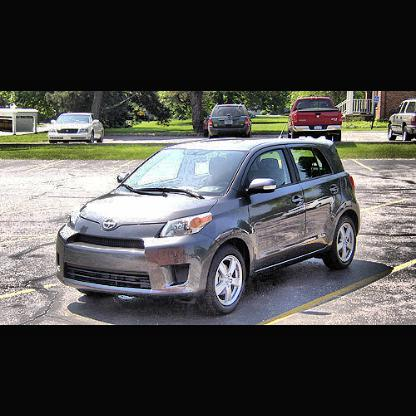Scion xD Hatchback 2012: (55, 137, 364, 316)
